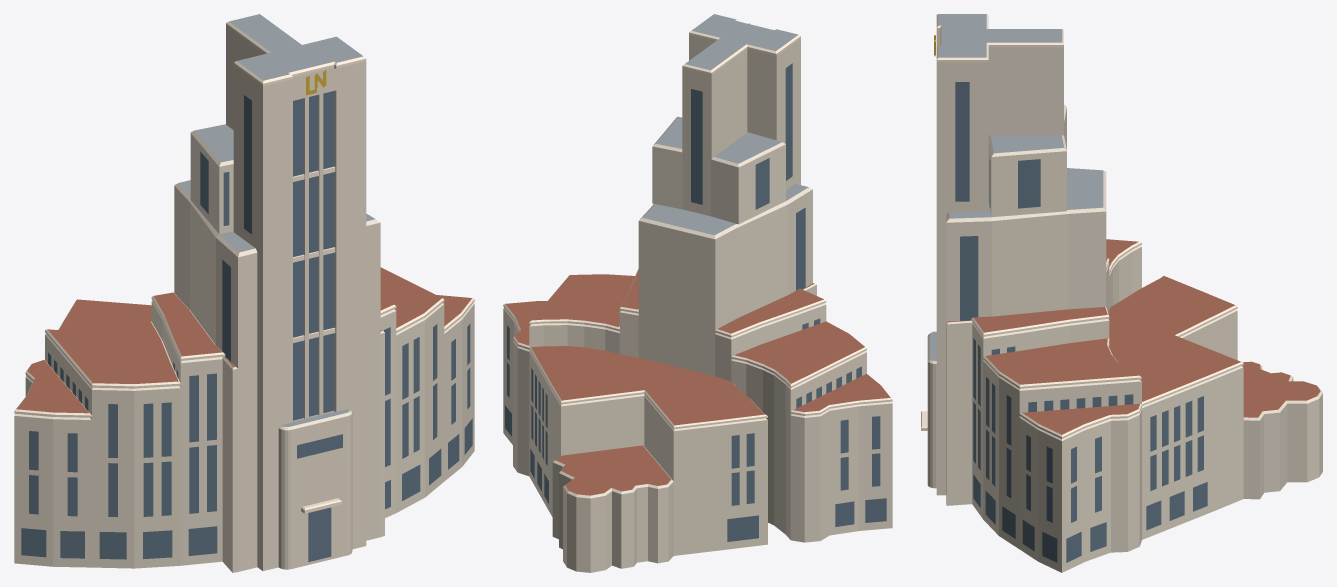
Rendered from mexico-city-el-moro.glb.
3 views of the same model, side by side, from view 1: azimuth 30°, elevation 25°; view 2: azimuth 150°, elevation 25°; view 3: azimuth 270°, elevation 25° (orthographic). The views are drawn at different scales.
Parts seen in each view (by area): view 1: Edificio El Moro; view 2: Edificio El Moro; view 3: Edificio El Moro.
Boxes of the visible parts, x1,y1,x2,y2 form: Edificio El Moro: (14,14,474,572); Edificio El Moro: (503,14,892,572); Edificio El Moro: (921,14,1322,572).
Size of the model in its own units: 64 by 65 by 54.2.
